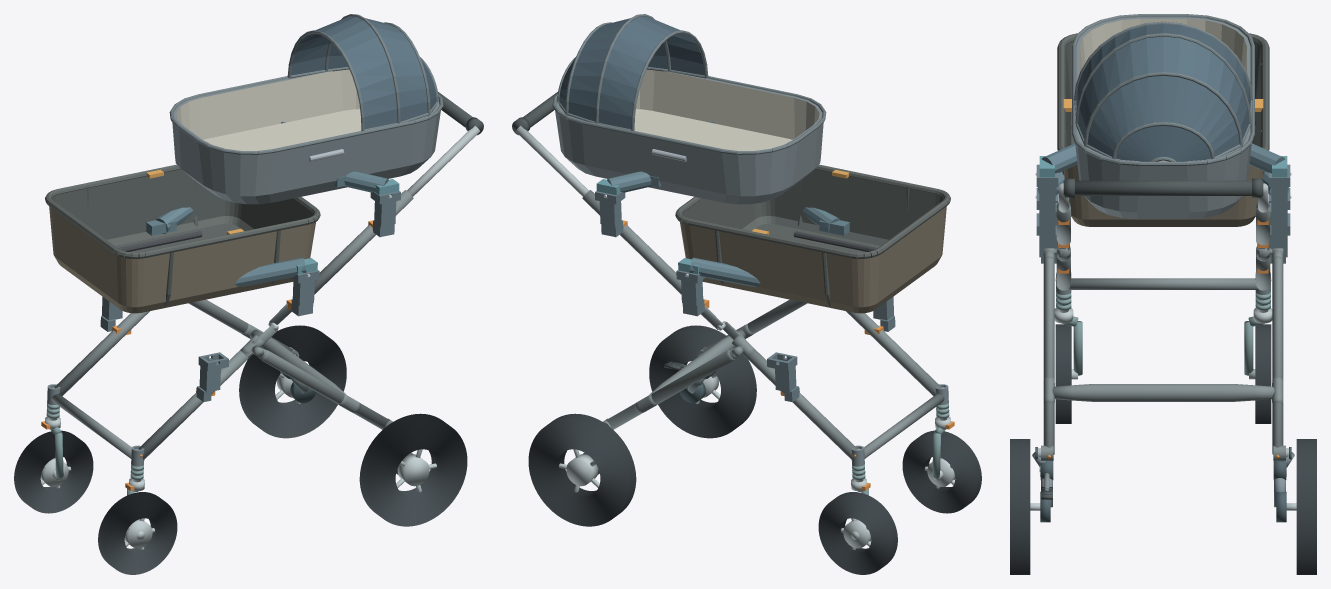
The model's file is D15_w550_state1_wheel_M.glb.
3 renders of one model, left to right at view 1: azimuth 30°, elevation 25°; view 2: azimuth 150°, elevation 25°; view 3: azimuth 270°, elevation 25°, orthographic. The views are drawn at different scales.
Parts seen in each view (by area): view 1: D15_Upper, D15_Lower, RL_tire.002, RR_tire.002, FL_tire.002, FR_tire.002, D15_Lower_Mount_M, V46_rear_leg_-1.003, main_lower_-1.003, main_lower_1.003, main_upper_-1.003, Universal_Cabin_Receiver_L_-1 (+8 smaller); view 2: D15_Upper, D15_Lower, RR_tire.002, RL_tire.002, FR_tire.002, FL_tire.002, D15_Lower_Mount_M, V46_rear_leg_1.003, main_lower_1.003, main_lower_-1.003, main_upper_1.003, Universal_Cabin_Receiver_L_1 (+8 smaller); view 3: D15_Upper, D15_Lower, V46_rearbar.003, round_handle.002, RL_tire.002, RR_tire.002, front_fixed_round_tube.002, V46_rear_leg_-1.003, V46_rear_leg_1.003, D15_Upper_Mount_H, FL_tire.002, FR_tire.002 (+10 smaller).
Part boxes in pixels (box(x1,y1,x2,y2)): D15_Upper: box(169, 14, 443, 204); D15_Lower: box(45, 164, 320, 313); RL_tire.002: box(359, 413, 467, 526); RR_tire.002: box(239, 325, 346, 438); FL_tire.002: box(98, 492, 177, 574); FR_tire.002: box(14, 430, 93, 513); D15_Lower_Mount_M: box(146, 207, 317, 286); V46_rear_leg_-1.003: box(260, 350, 389, 429); main_lower_-1.003: box(138, 350, 251, 459); main_lower_1.003: box(54, 311, 149, 396); main_upper_-1.003: box(314, 190, 413, 294); Universal_Cabin_Receiver_L_-1: box(196, 352, 228, 401); D15_Upper: box(552, 14, 826, 204); D15_Lower: box(675, 164, 950, 313); RR_tire.002: box(528, 413, 636, 526); RL_tire.002: box(649, 325, 756, 438); FR_tire.002: box(818, 492, 897, 574); FL_tire.002: box(902, 430, 981, 513); D15_Lower_Mount_M: box(678, 207, 849, 286); V46_rear_leg_1.003: box(606, 350, 735, 429); main_lower_1.003: box(744, 350, 857, 459); main_lower_-1.003: box(846, 311, 941, 396); main_upper_1.003: box(582, 190, 681, 294); Universal_Cabin_Receiver_L_1: box(767, 352, 799, 401); D15_Upper: box(1072, 14, 1254, 219); D15_Lower: box(1057, 33, 1269, 226); V46_rearbar.003: box(1052, 384, 1274, 401); round_handle.002: box(1063, 180, 1263, 195); RL_tire.002: box(1010, 439, 1030, 574); RR_tire.002: box(1296, 439, 1316, 574); front_fixed_round_tube.002: box(1069, 278, 1257, 289); V46_rear_leg_-1.003: box(1043, 256, 1054, 454); V46_rear_leg_1.003: box(1272, 256, 1283, 454); D15_Upper_Mount_H: box(1035, 143, 1291, 177); FL_tire.002: box(1055, 324, 1071, 423); FR_tire.002: box(1255, 324, 1271, 423).
Bounding box in the file's own units: 1.16 × 1.32 × 0.6771.
